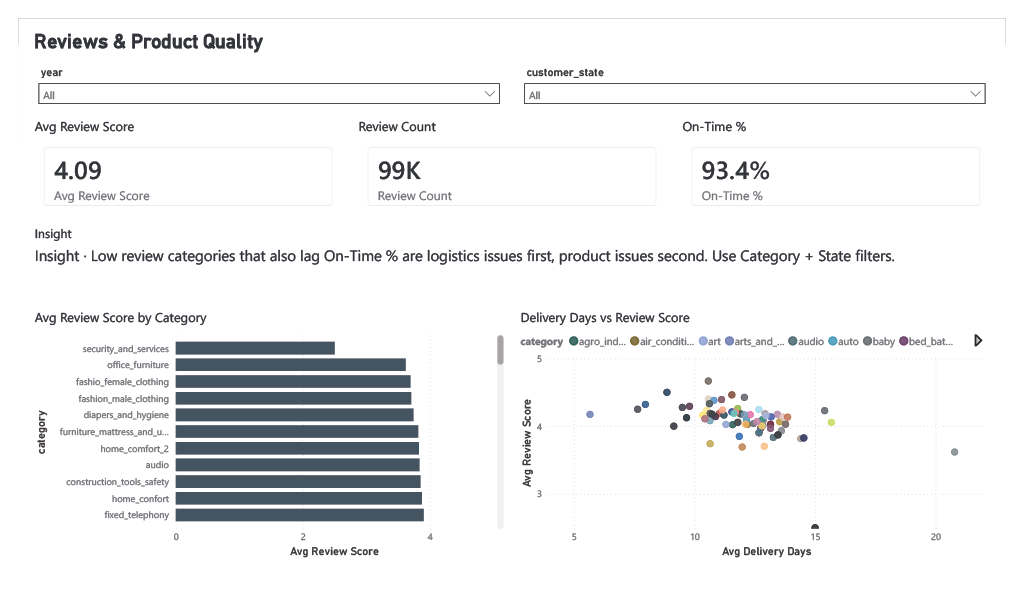

This screenshot's page, from the dashboard's own definition file:
{"tool":"powerbi","page":{"name":"06 Reviews & Product Quality","canvas":[1280,720],"ordinal":5},"visuals":[{"type":"textbox","box":[16,8,1248,44],"z":0},{"type":"slicer","title":"Year","fields":{"Values":["vw_sales.year"]},"box":[16,56,618,64],"z":1000},{"type":"slicer","title":"Customer State","fields":{"Values":["vw_sales.customer_state"]},"box":[646,56,618,64],"z":2000},{"type":"cardVisual","title":"Avg Review Score","fields":{"Data":["vw_sales.Avg Review Score"]},"box":[16,128,408,132],"z":3000},{"type":"cardVisual","title":"Review Count","fields":{"Data":["vw_sales.Review Count"]},"box":[436,128,408,132],"z":4000},{"type":"cardVisual","title":"On-Time %","fields":{"Data":["vw_sales.On-Time %"]},"box":[856,128,408,132],"z":5000},{"type":"textbox","title":"Insight","box":[16,268,1248,100],"z":6000},{"type":"barChart","title":"Avg Review Score by Category","fields":{"Category":["vw_sales.category"],"Y":["vw_sales.Avg Review Score"]},"box":[16,376,618,328],"z":7000},{"type":"scatterChart","title":"Delivery Days vs Review Score","fields":{"X":["vw_sales.Avg Delivery Days"],"Y":["vw_sales.Avg Review Score"],"Series":["vw_sales.category"]},"box":[646,376,618,328],"z":8000}]}

Visuals, with their boxes in screenshot pixels (x1, y1, x2, y2), scaled from the page's 1280x720 canvas onto the 1024x592 screenshot:
textbox: left=13, top=7, right=1011, bottom=43
"Year" slicer: left=13, top=46, right=507, bottom=99
"Customer State" slicer: left=517, top=46, right=1011, bottom=99
"Avg Review Score" cardVisual: left=13, top=105, right=339, bottom=214
"Review Count" cardVisual: left=349, top=105, right=675, bottom=214
"On-Time %" cardVisual: left=685, top=105, right=1011, bottom=214
"Insight" textbox: left=13, top=220, right=1011, bottom=303
"Avg Review Score by Category" barChart: left=13, top=309, right=507, bottom=579
"Delivery Days vs Review Score" scatterChart: left=517, top=309, right=1011, bottom=579
